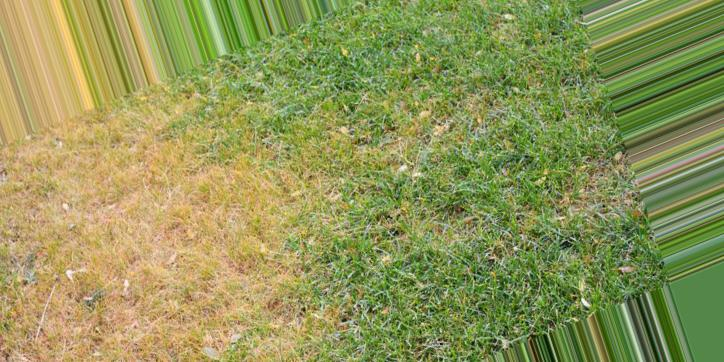patch: (28, 146, 262, 362)
